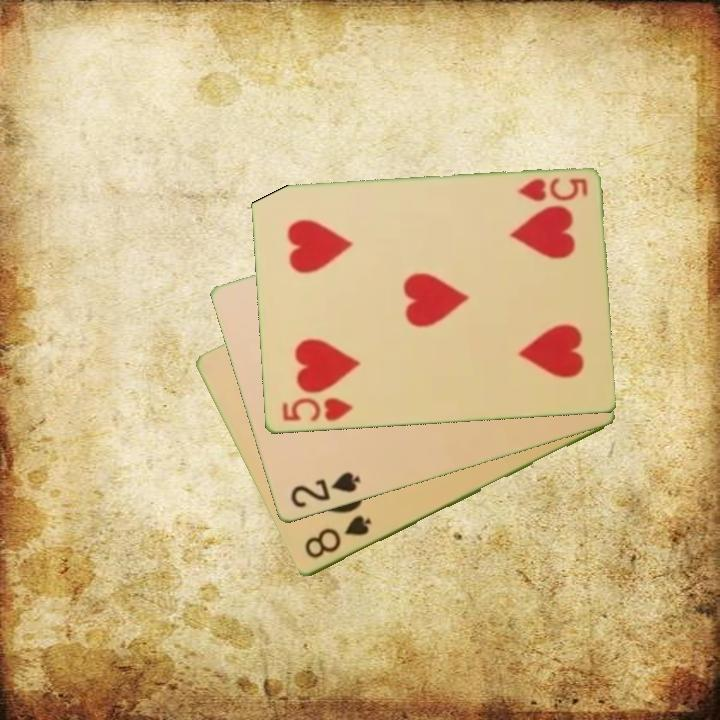2s: (286, 468, 363, 512)
5h: (278, 394, 356, 425), (513, 175, 590, 205)
8s: (300, 512, 375, 562)
